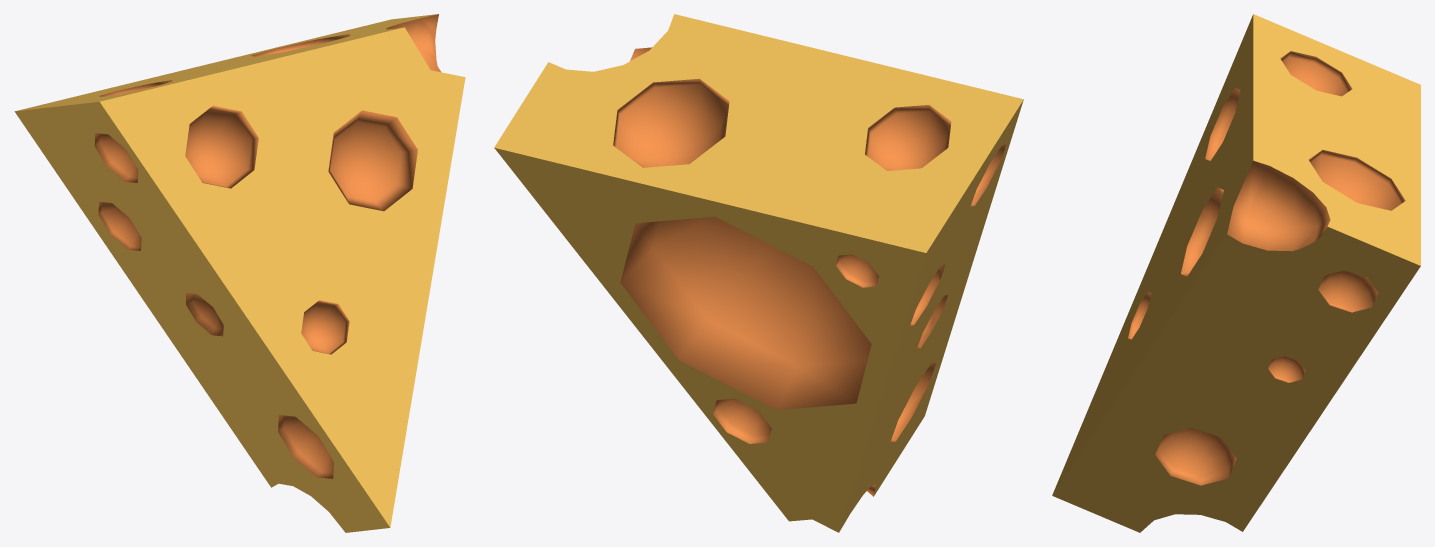
File: hat-cheese.glb
3 views of the same model, side by side, from view 1: azimuth 30°, elevation 25°; view 2: azimuth 150°, elevation 25°; view 3: azimuth 270°, elevation 25° (orthographic). The views are drawn at different scales.
Visible parts, largest first — view 1: hat-cheese; view 2: hat-cheese; view 3: hat-cheese.
Part boxes in pixels (bbox=[...]): hat-cheese: bbox=[14, 14, 465, 532]; hat-cheese: bbox=[494, 14, 1023, 532]; hat-cheese: bbox=[1052, 14, 1420, 532].
Size of the model in its own units: 1.65 by 1.82 by 1.42.
1 material, 1 textured.
